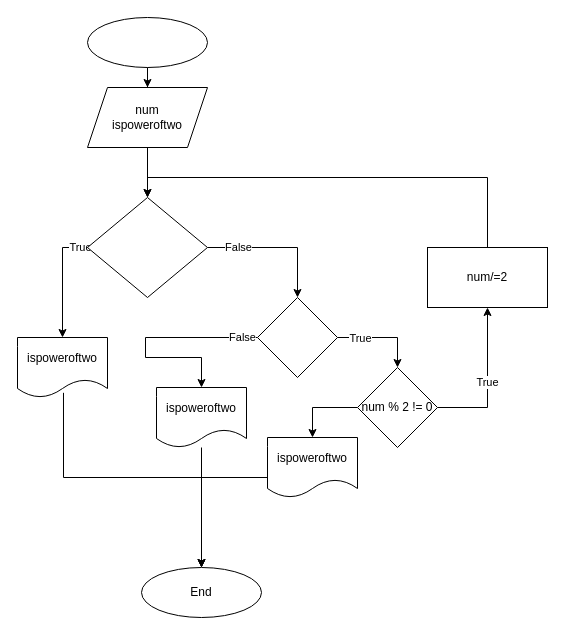
This 565x635 diagram has some shape labels left out. Each missing label, with the box of its shape:
num <= 0: (86, 196, 208, 298)
num>1: (256, 296, 338, 378)
Start: (86, 16, 208, 68)
